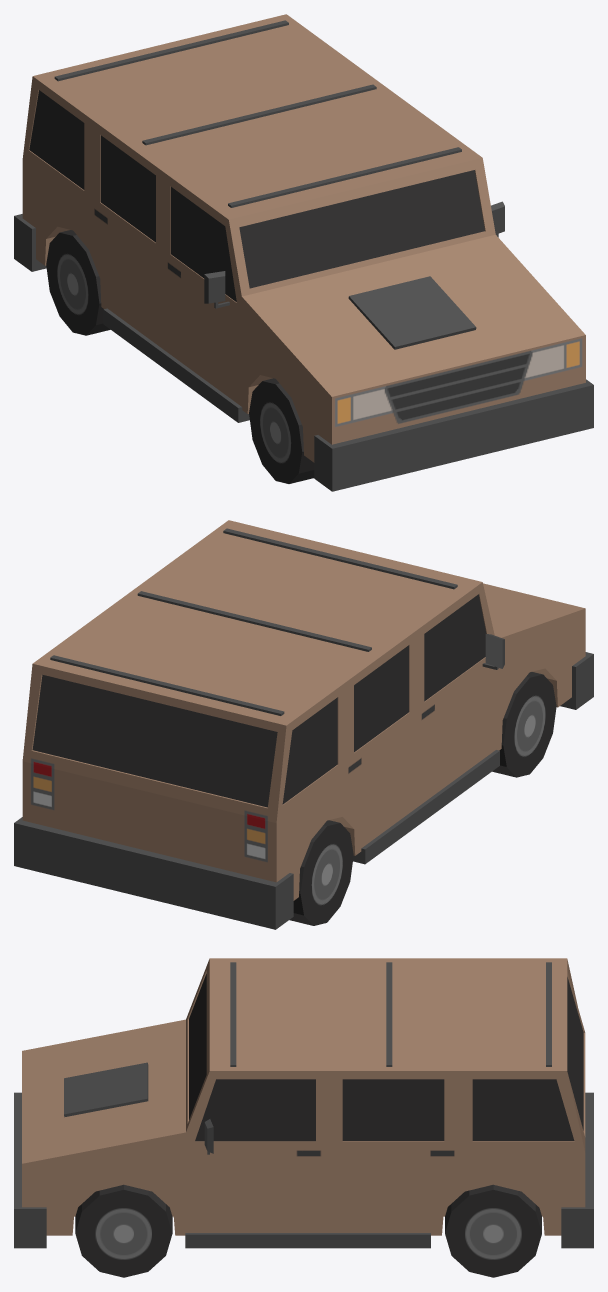
File: vehicle-suv-color02.glb
3 views of the same model, one above another, from view 1: azimuth 30°, elevation 25°; view 2: azimuth 150°, elevation 25°; view 3: azimuth 270°, elevation 25° (orthographic). The views are drawn at different scales.
Visible parts, largest first — view 1: model; view 2: model; view 3: model.
Part boxes in pixels (<box>): model: <box>14,14,593,491</box>; model: <box>14,520,593,929</box>; model: <box>14,958,593,1277</box>.
Size of the model in its own units: 3.1 by 2.27 by 5.73.
Materials: 1 (1 with a texture image).
